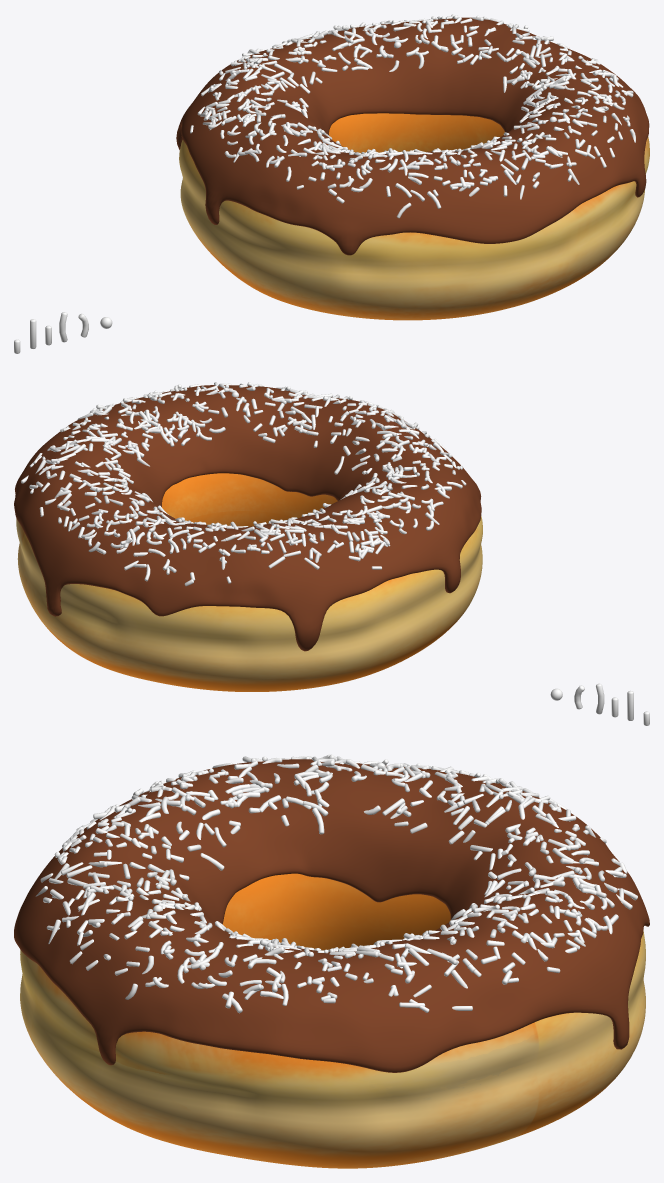
File: Donut.glb
3 views of the same model, one above another, from view 1: azimuth 30°, elevation 25°; view 2: azimuth 150°, elevation 25°; view 3: azimuth 270°, elevation 25° (orthographic). The views are drawn at different scales.
Parts seen in each view (by area): view 1: Es, Donat; view 2: Es, Donat; view 3: Es, Donat.
Boxes of the visible parts, left/top/right/bottom form: Es: left=176, top=17, right=649, bottom=255; Donat: left=179, top=113, right=649, bottom=320; Es: left=14, top=385, right=481, bottom=651; Donat: left=16, top=473, right=482, bottom=691; Es: left=14, top=759, right=649, bottom=1072; Donat: left=20, top=873, right=645, bottom=1168.
Size of the model in its own units: 0.2189 by 0.0594 by 0.1458.
3 materials, 1 textured.
